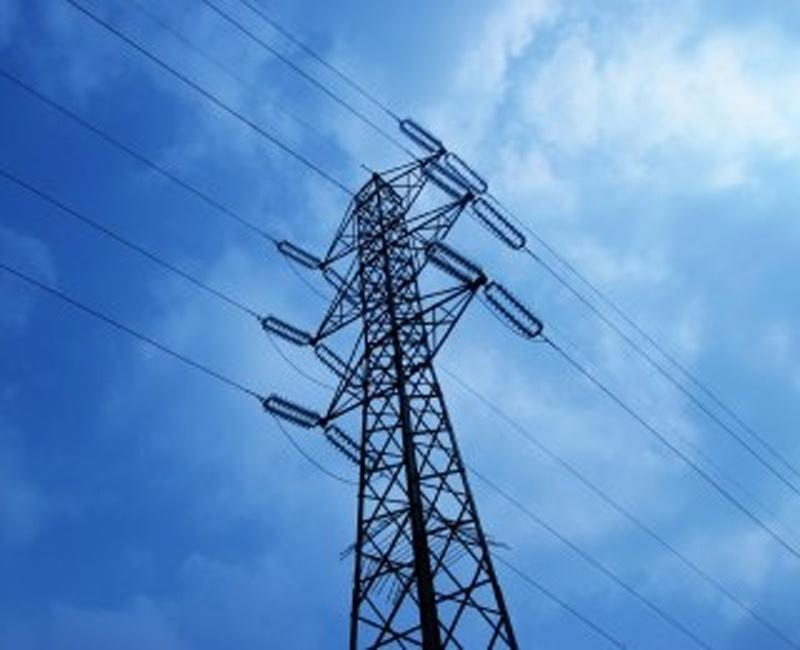power_tower: (260, 113, 545, 650)
